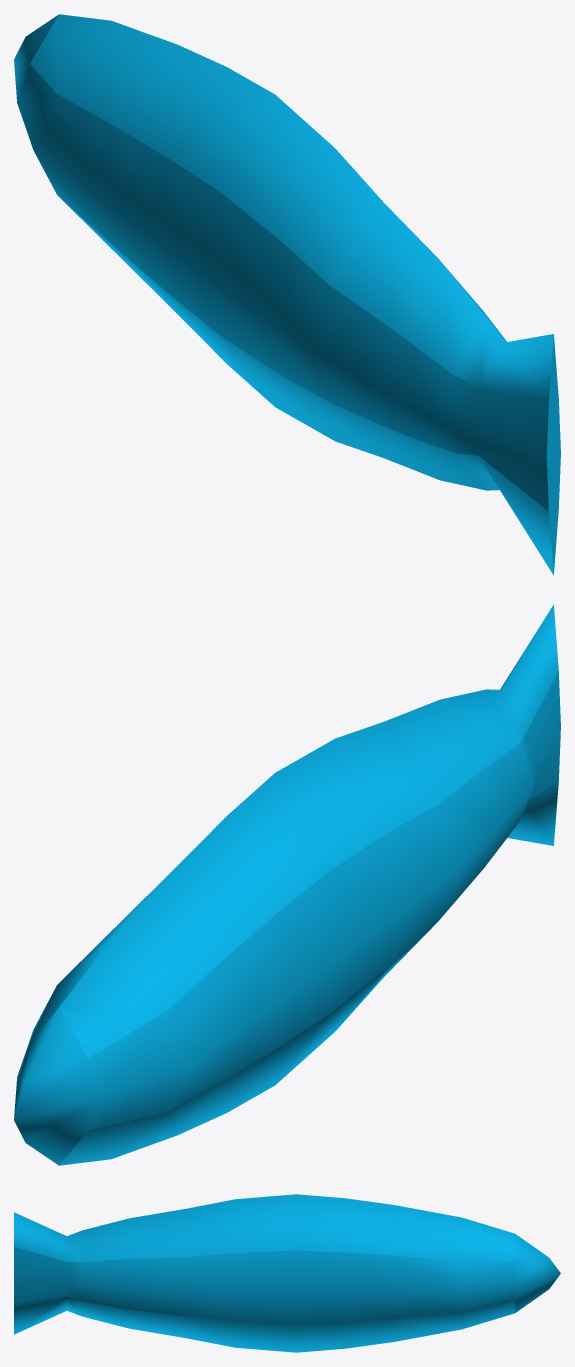
File: Kozakana(Blue).fbx
3 views of the same model, one above another, from view 1: azimuth 30°, elevation 25°; view 2: azimuth 150°, elevation 25°; view 3: azimuth 270°, elevation 25° (orthographic). The views are drawn at different scales.
Visible parts, largest first — view 1: pCube1; view 2: pCube1; view 3: pCube1.
Boxes of the visible parts, x1,y1,x2,y2 form: pCube1: (14, 14, 560, 575); pCube1: (14, 604, 560, 1165); pCube1: (14, 1194, 560, 1352).
Size of the model in its own units: 7.48 by 14.28 by 44.69.
